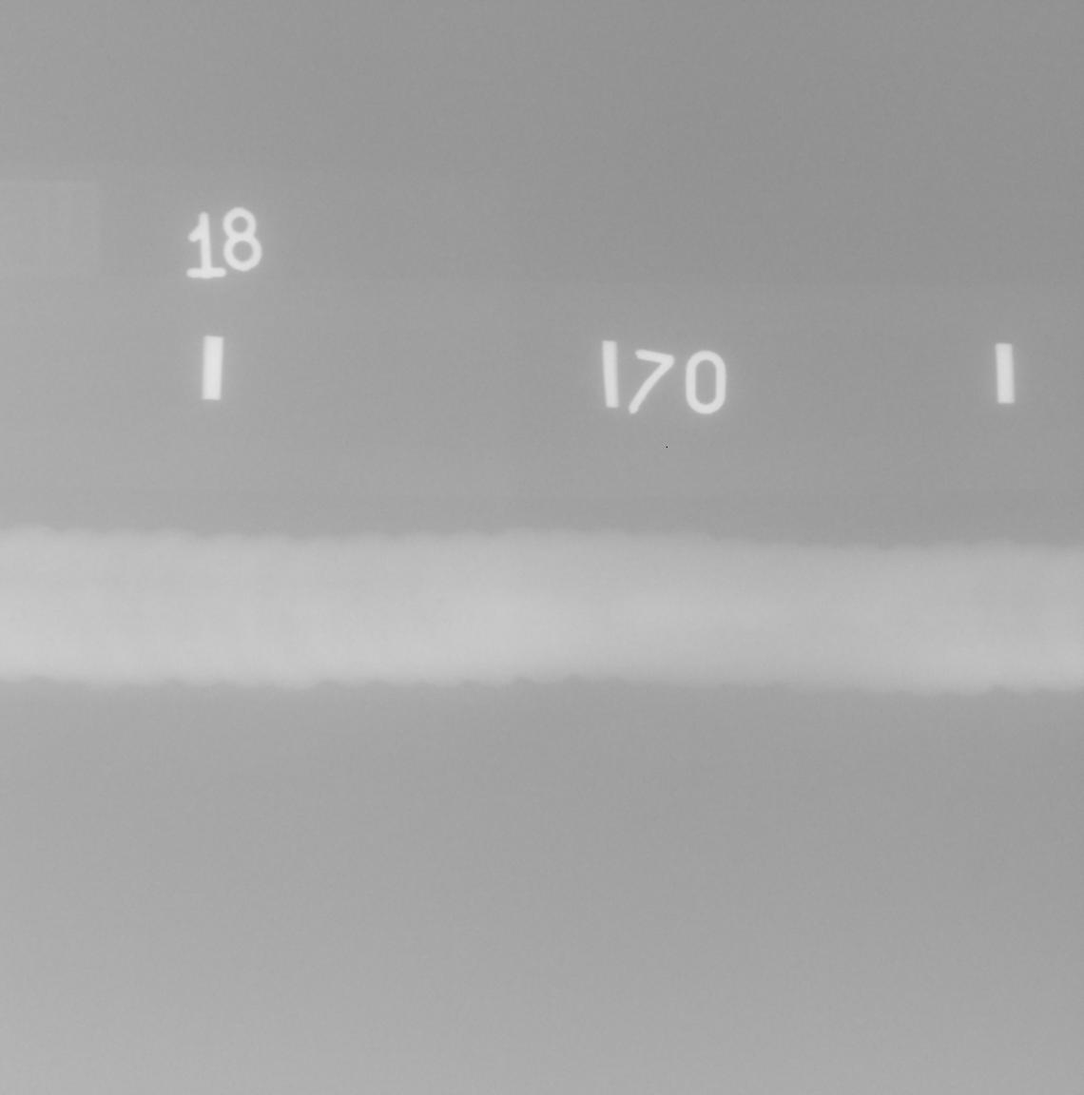Inclusion: (437, 598, 442, 604)
